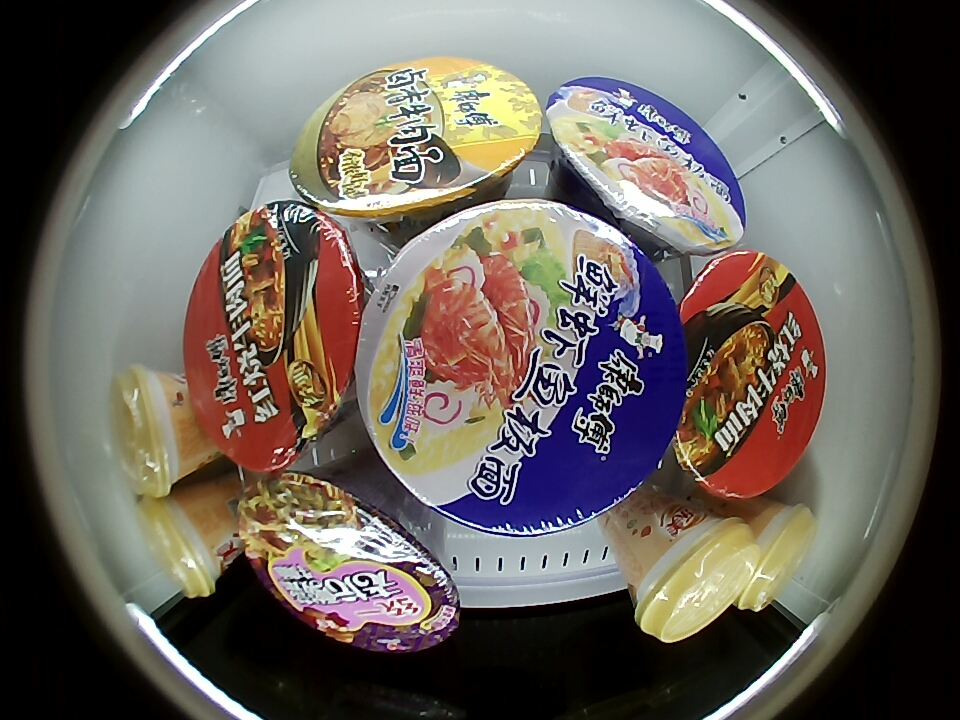hongshaoniurou: (185, 200, 365, 468), (671, 250, 824, 500)
laotansuancai: (237, 469, 461, 654)
luxiangniurou: (290, 58, 543, 219)
xianxiayuban: (354, 199, 688, 539), (545, 75, 747, 253)
youlemei: (631, 510, 759, 643), (113, 364, 189, 498), (137, 491, 228, 599), (738, 501, 817, 613)
